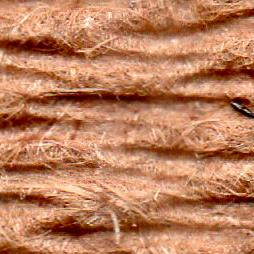egg: (231, 101, 253, 117)
